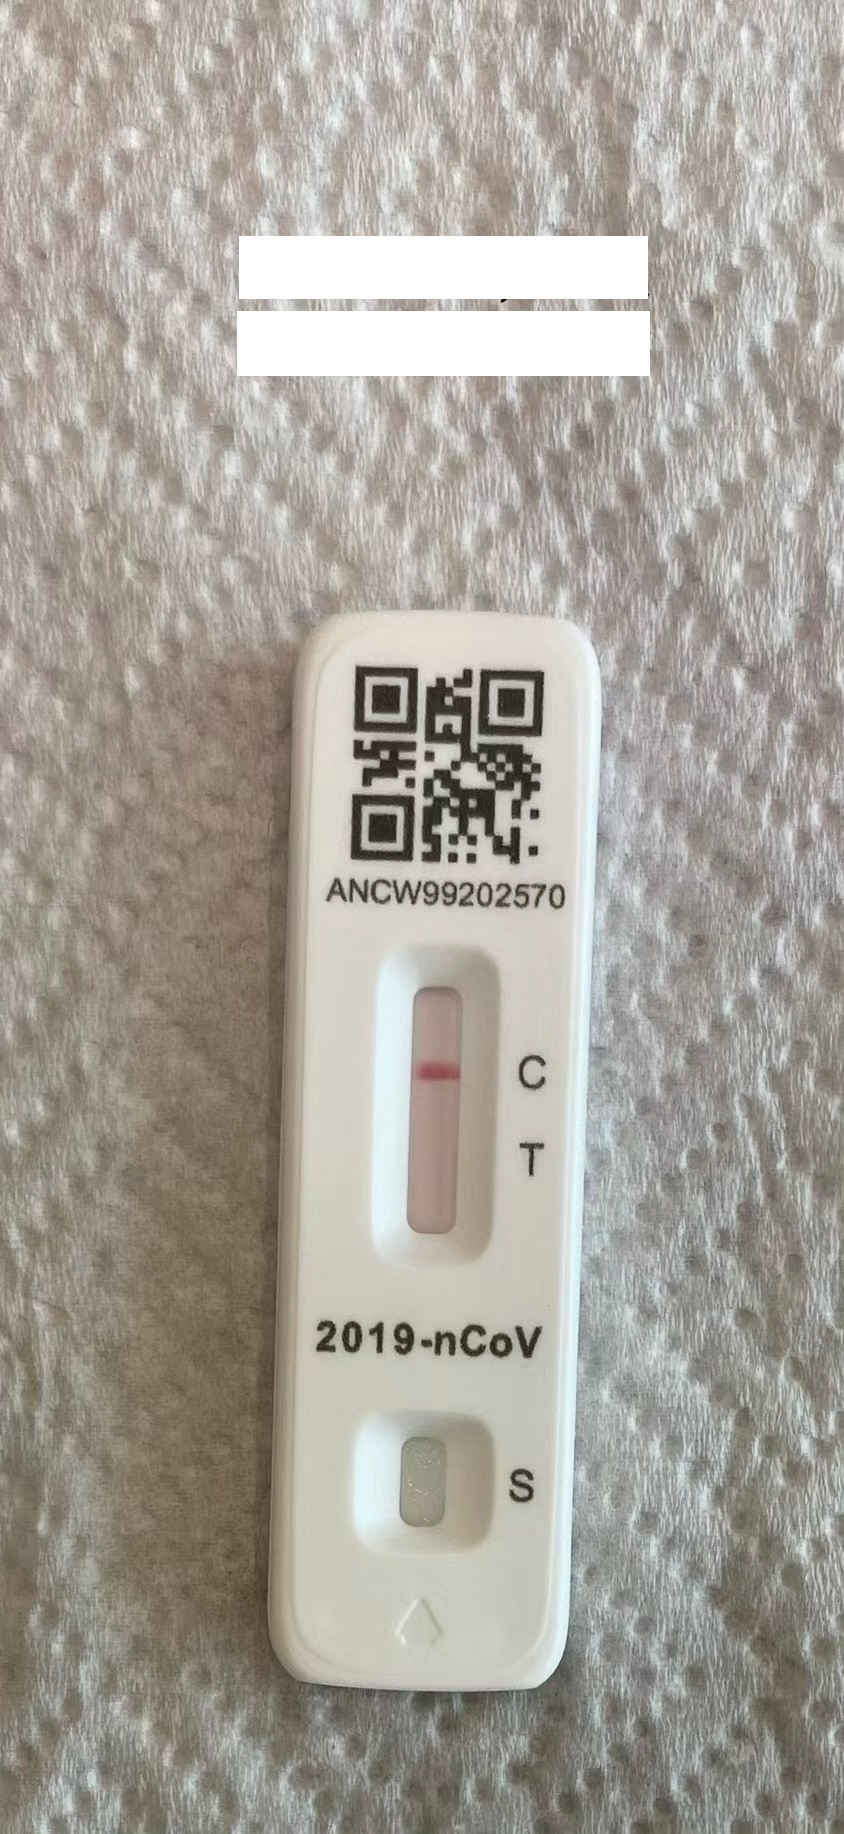negative: (376, 942, 494, 1282)
